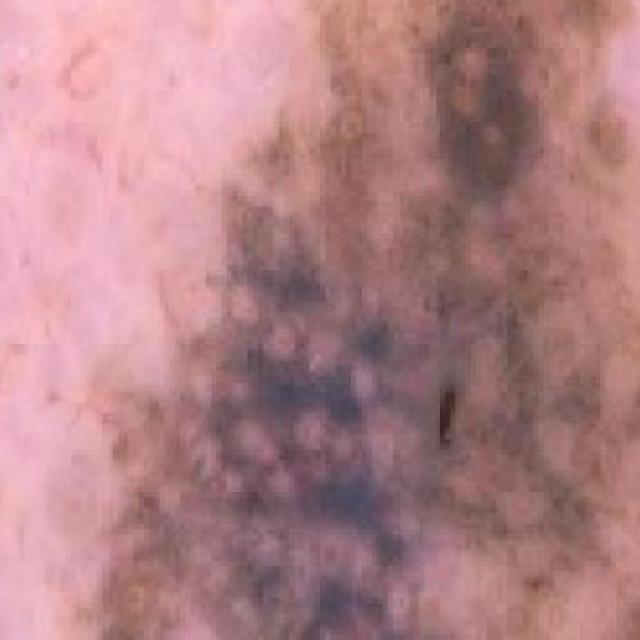MEL: (111, 0, 640, 640)
